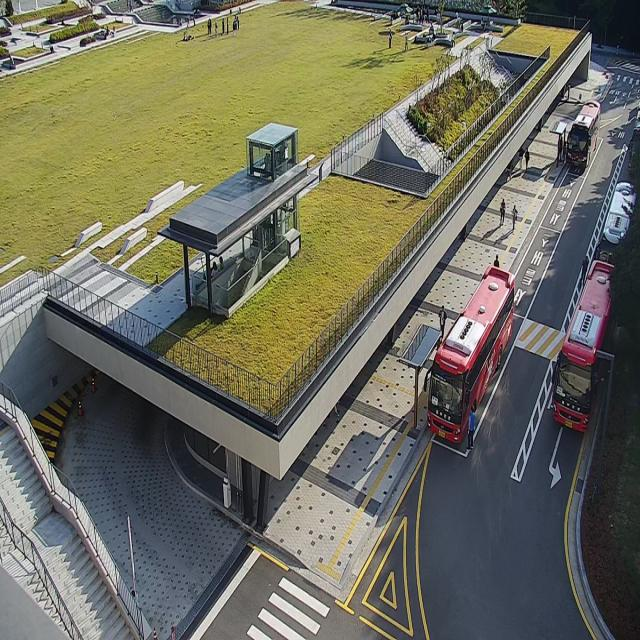queue: (416, 333, 442, 428)
